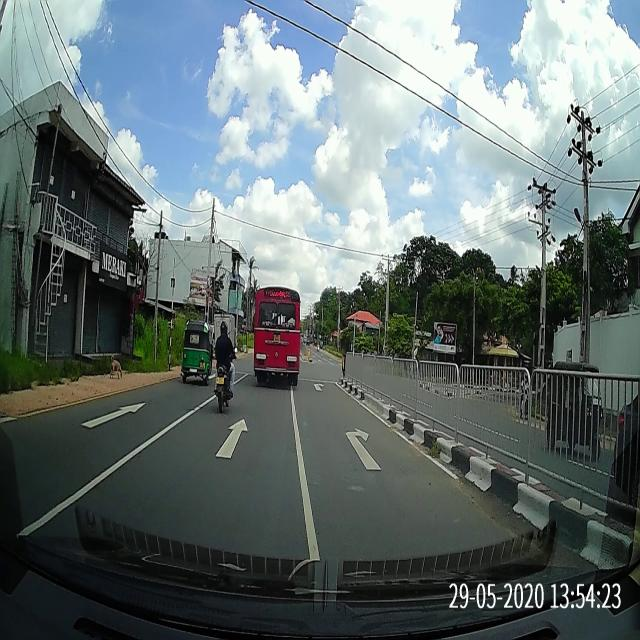Strelka vpered: (79, 402, 148, 430), (212, 417, 249, 461)
Strelka vpravo: (344, 426, 384, 472)
